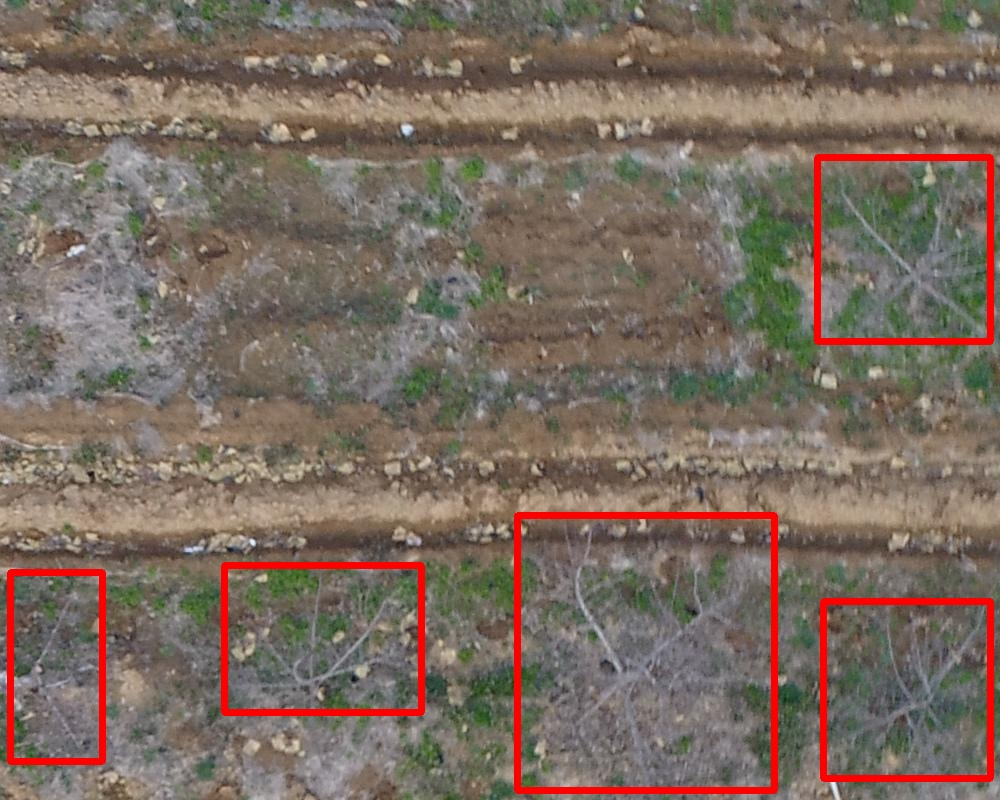apple: (517, 515, 774, 790), (817, 157, 990, 341), (823, 601, 990, 778), (224, 565, 421, 712), (10, 572, 102, 761)
